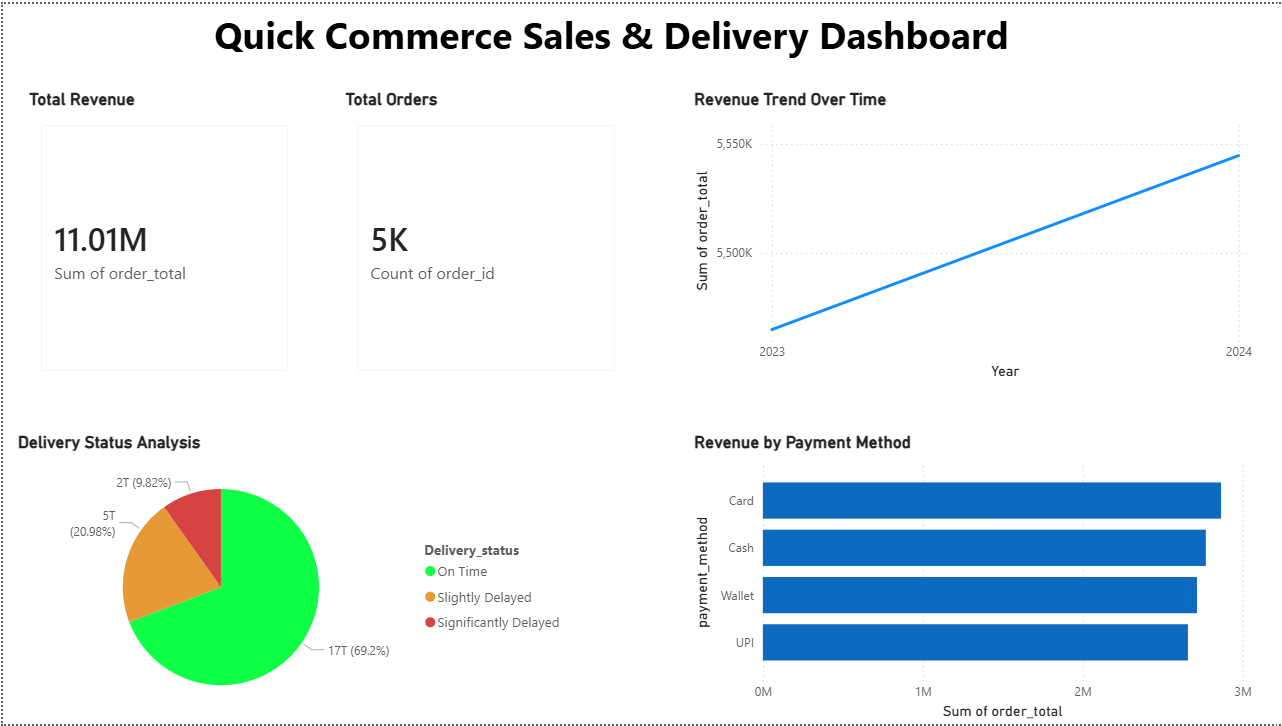

The dashboard page shown, as its layout file describes it:
{"tool":"powerbi","page":{"name":"Page 1","canvas":[1280,720],"ordinal":0},"visuals":[{"type":"cardVisual","title":"Total Revenue","fields":{"Data":["Sum(cleaned_blinkit_orders.order_total)"]},"box":[21.2,85,281.2,300],"z":0},{"type":"cardVisual","title":"Total Orders","fields":{"Data":["CountNonNull(cleaned_blinkit_orders.order_id)"]},"box":[337.5,85,292.5,300],"z":2000},{"type":"pieChart","title":"Delivery Status Analysis","fields":{"Category":["cleaned_blinkit_orders.delivery_status"],"Y":["Sum(cleaned_blinkit_orders.order_id)"]},"box":[10,427.5,561.2,292.5],"z":3000},{"type":"clusteredBarChart","title":"Revenue by Payment Method","fields":{"Category":["cleaned_blinkit_orders.payment_method"],"Y":["Sum(cleaned_blinkit_orders.order_total)"]},"box":[686.2,427.5,567.5,292.5],"z":3001},{"type":"lineChart","title":"Revenue Trend Over Time","fields":{"Category":["cleaned_blinkit_orders.order_date.Variation.Date Hierarchy.Year","cleaned_blinkit_orders.order_date.Variation.Date Hierarchy.Quarter","cleaned_blinkit_orders.order_date.Variation.Date Hierarchy.Month","cleaned_blinkit_orders.order_date.Variation.Date Hierarchy.Day"],"Y":["Sum(cleaned_blinkit_orders.order_total)"]},"box":[686.2,85,567.5,295],"z":3002},{"type":"textbox","box":[206.2,0,867.5,76.2],"z":3003}]}

Visuals, with their boxes in screenshot pixels (x1, y1, x2, y2), scaled from the page's 1280x720 canvas onto the 1282x726 screenshot:
"Total Revenue" cardVisual: <box>21,86,303,388</box>
"Total Orders" cardVisual: <box>338,86,631,388</box>
"Delivery Status Analysis" pieChart: <box>10,431,572,725</box>
"Revenue by Payment Method" clusteredBarChart: <box>687,431,1256,725</box>
"Revenue Trend Over Time" lineChart: <box>687,86,1256,383</box>
textbox: <box>207,0,1075,77</box>
